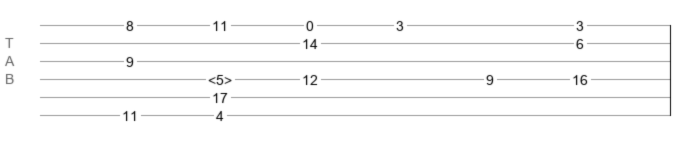0: (306, 18, 314, 28)
11: (122, 108, 138, 118), (212, 18, 228, 28)
12: (302, 72, 318, 82)
14: (302, 36, 318, 46)
16: (572, 72, 588, 82)
17: (212, 90, 228, 100)
3: (396, 18, 404, 28), (576, 18, 584, 28)
4: (216, 108, 224, 118)
6: (576, 36, 584, 46)
8: (126, 18, 134, 28)
9: (126, 54, 134, 64), (486, 72, 494, 82)
harmonic: (208, 72, 232, 82)
